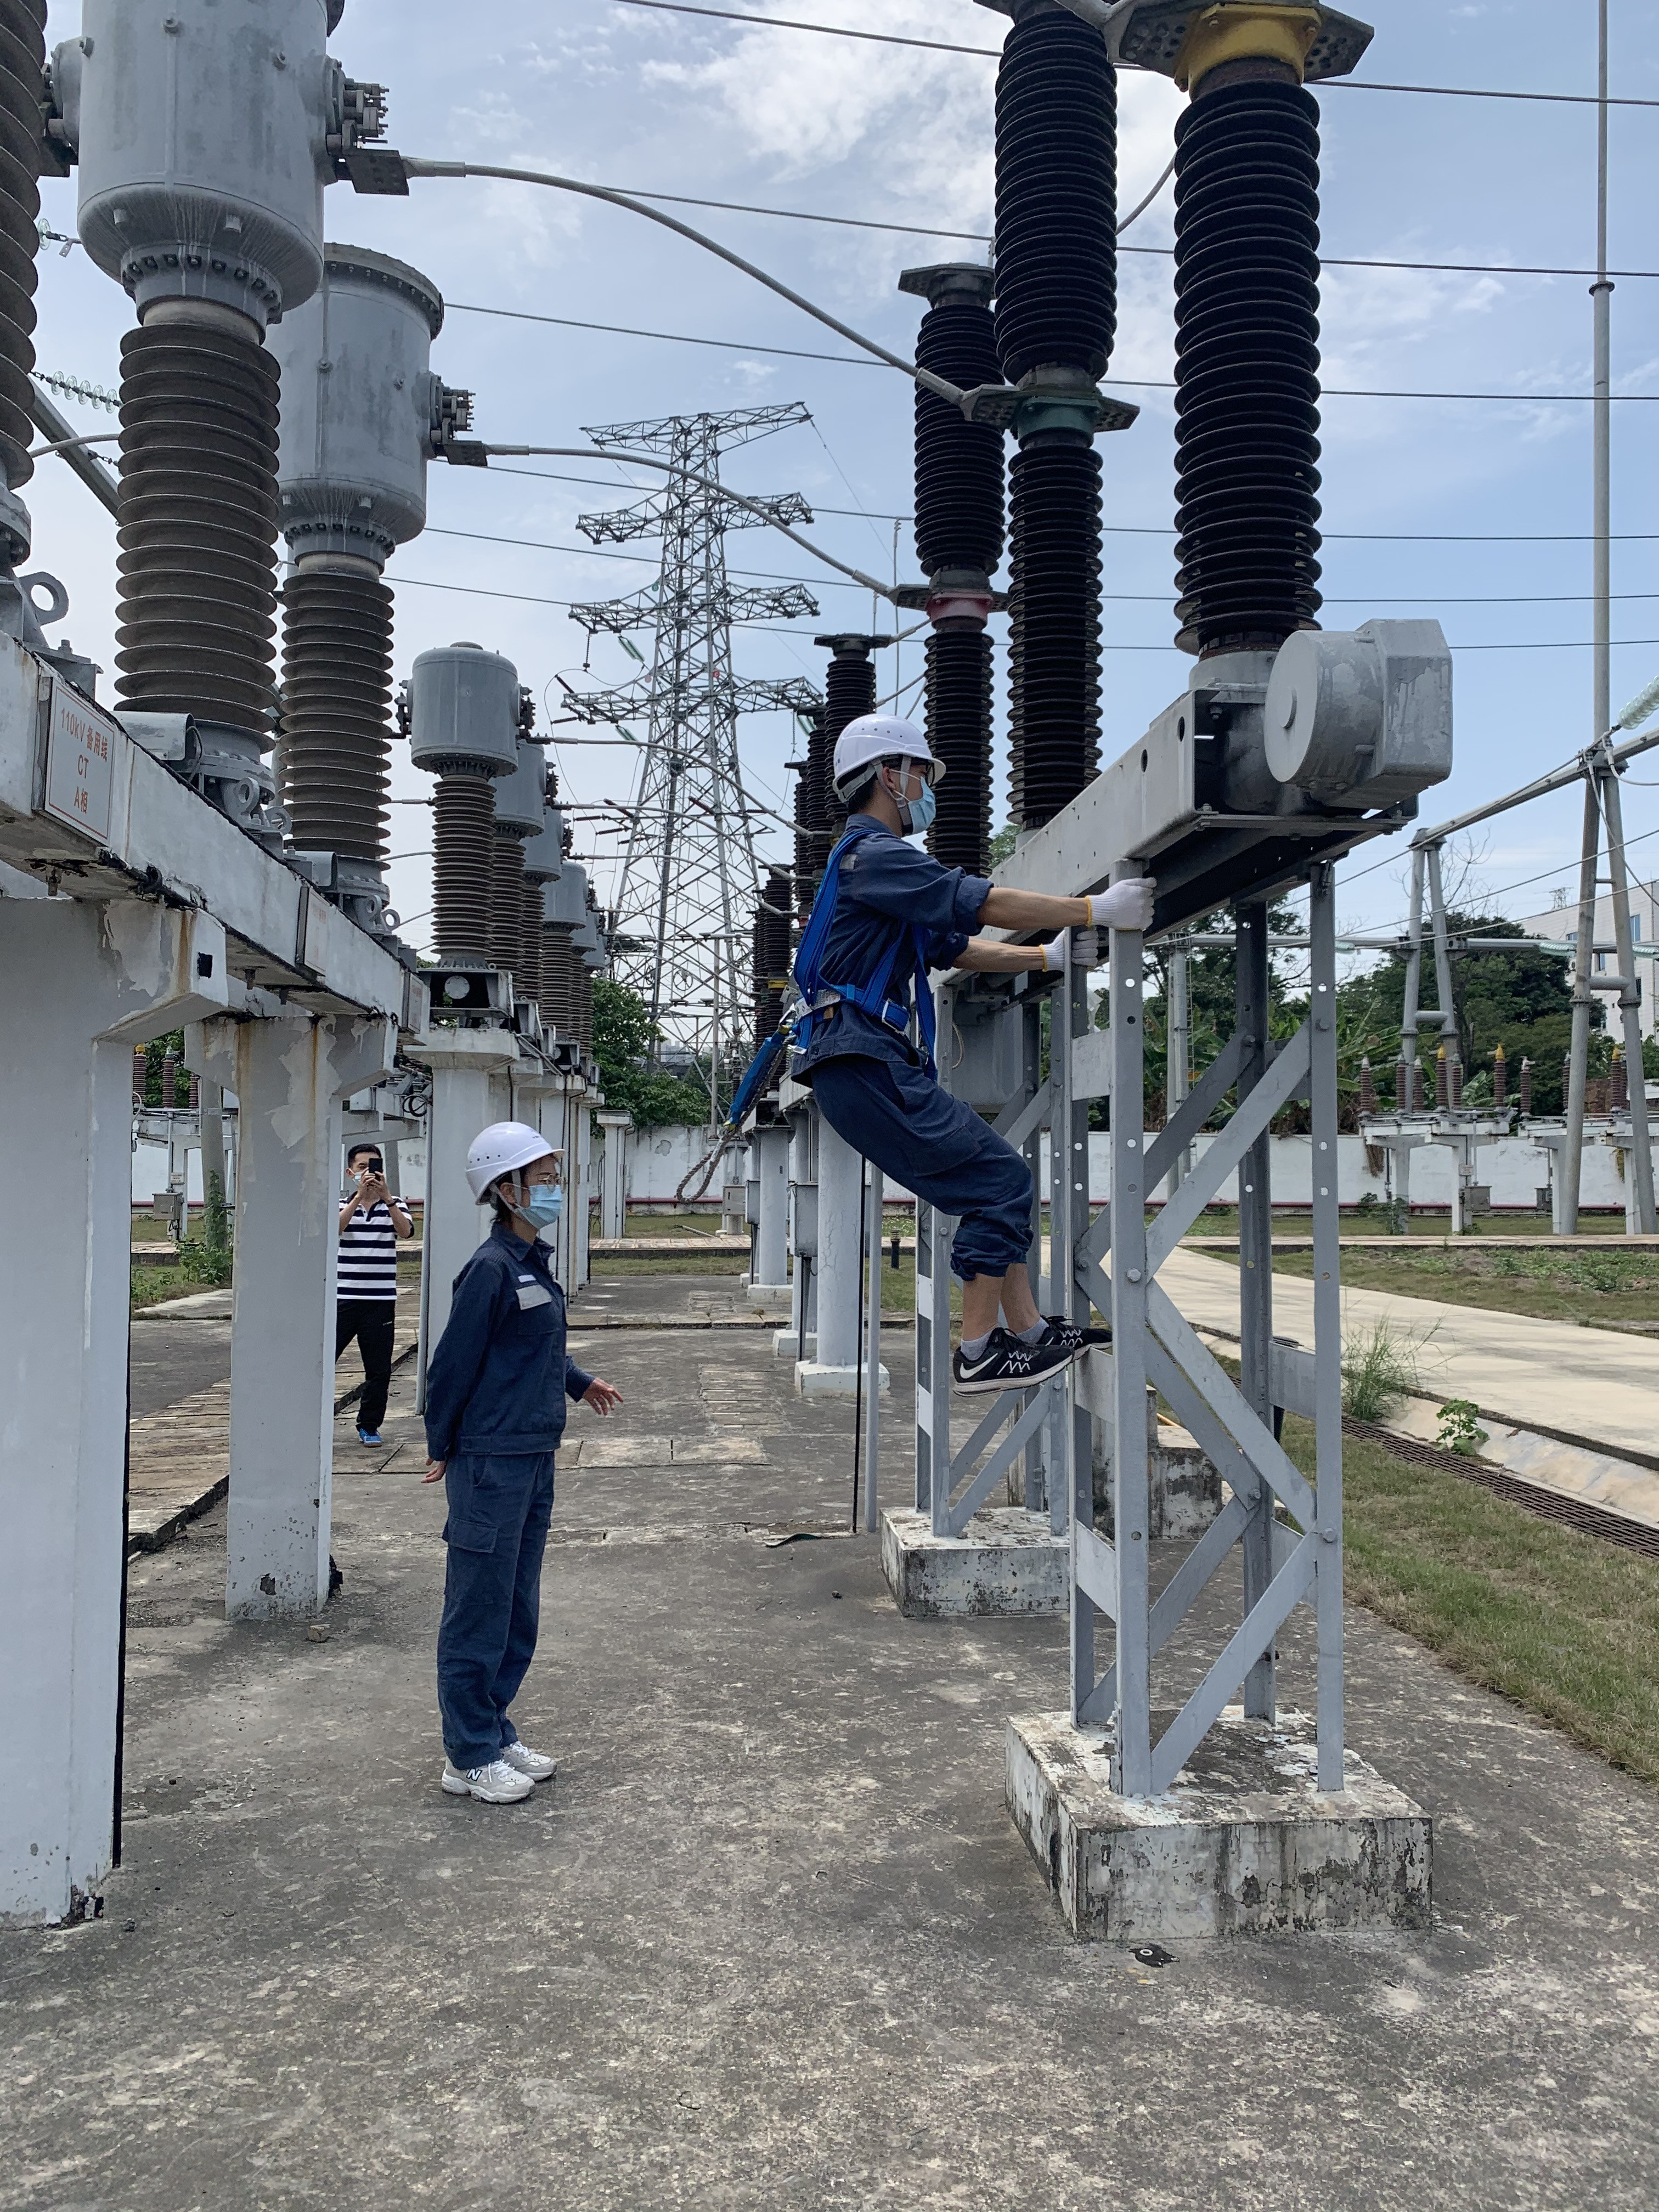downcloth: (340, 1308, 394, 1433)
downsuit: (821, 1066, 1037, 1284), (439, 1458, 558, 1679)
upcloth: (336, 1191, 416, 1303)
upsuit: (791, 815, 999, 1064), (422, 1223, 594, 1453)
wrongbottom: (943, 1238, 1054, 1362)
wrongtop: (962, 864, 1127, 981)
